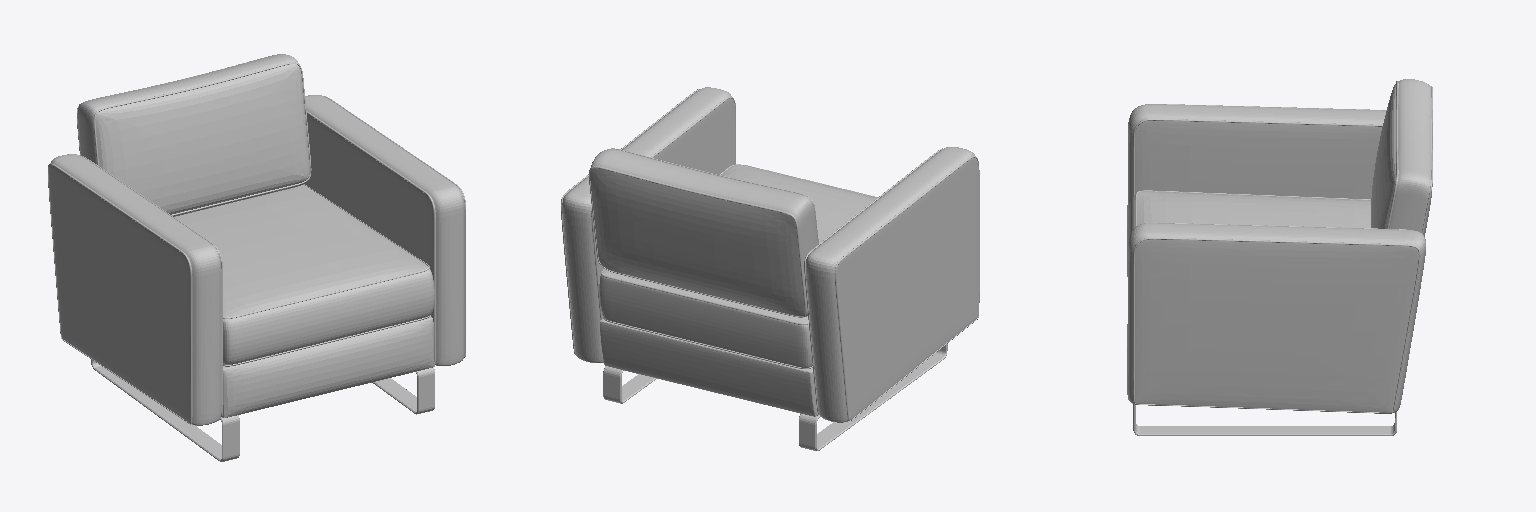
The model's file is armchair 005.obj.
3 views of the same model, side by side, from view 1: azimuth 30°, elevation 25°; view 2: azimuth 150°, elevation 25°; view 3: azimuth 270°, elevation 25° (orthographic).
Visible parts, largest first — view 1: obj_06, obj_05, obj_01, obj_07, obj_04, obj_02, obj_03; view 2: obj_06, obj_01, obj_05, obj_07, obj_04, obj_02, obj_03; view 3: obj_07, obj_06, obj_01, obj_05, obj_03.
Part boxes in pixels (bbox=[...]): obj_06: bbox=[48, 154, 222, 425]; obj_05: bbox=[175, 184, 434, 366]; obj_01: bbox=[77, 54, 311, 216]; obj_07: bbox=[305, 95, 465, 365]; obj_04: bbox=[222, 316, 434, 417]; obj_02: bbox=[91, 359, 239, 461]; obj_03: bbox=[372, 367, 434, 414]; obj_06: bbox=[804, 147, 979, 422]; obj_01: bbox=[589, 148, 818, 317]; obj_05: bbox=[599, 164, 877, 368]; obj_07: bbox=[561, 87, 735, 362]; obj_04: bbox=[600, 319, 818, 416]; obj_02: bbox=[799, 344, 947, 450]; obj_03: bbox=[603, 366, 656, 403]; obj_07: bbox=[1127, 223, 1425, 413]; obj_06: bbox=[1127, 104, 1386, 276]; obj_01: bbox=[1371, 79, 1432, 236]; obj_05: bbox=[1128, 190, 1370, 240]; obj_03: bbox=[1133, 404, 1396, 435].
Bounding box in the file's own units: 30.17 × 26.81 × 28.82.